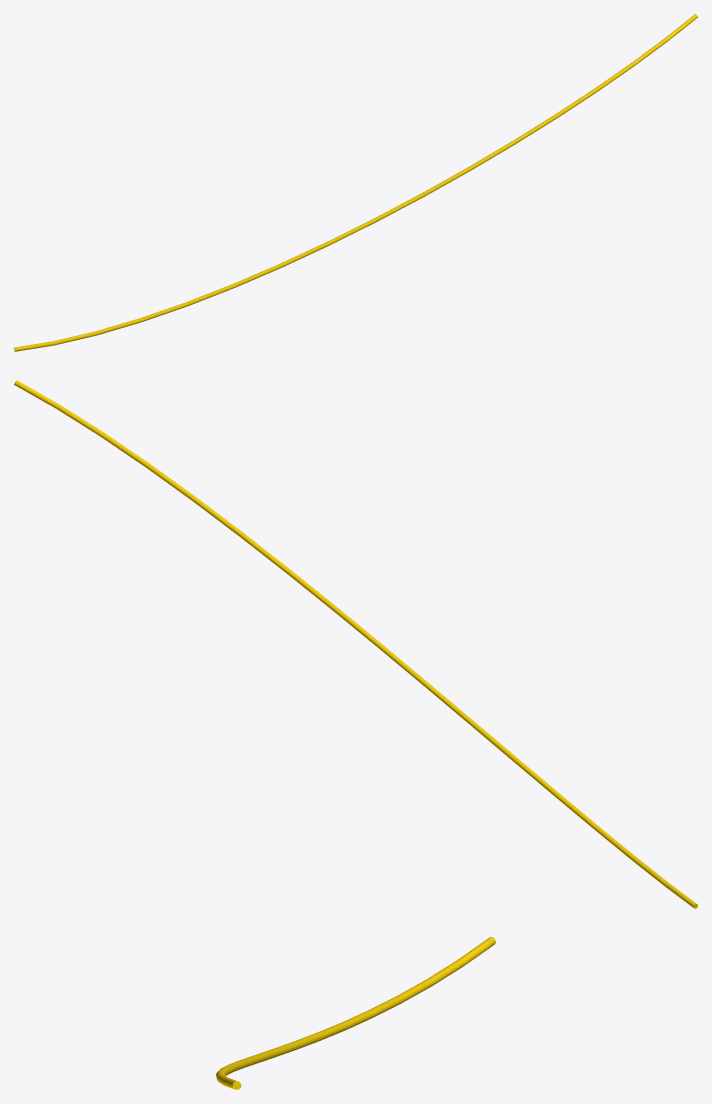
The model's file is Event_421556567_track_1.fbx.
The picture shows the model from 3 angles, top to bottom: view 1: azimuth 30°, elevation 25°; view 2: azimuth 150°, elevation 25°; view 3: azimuth 270°, elevation 25°; orthographic projection. The views are drawn at different scales.
Visible parts, largest first — view 1: Model; view 2: Model; view 3: Model.
Part boxes in pixels (left/top/right/bottom): Model: left=14, top=14, right=697, bottom=351; Model: left=14, top=380, right=697, bottom=908; Model: left=216, top=937, right=495, bottom=1089.
Bounding box in the file's own units: 6.49 × 2.33 × 1.27.
